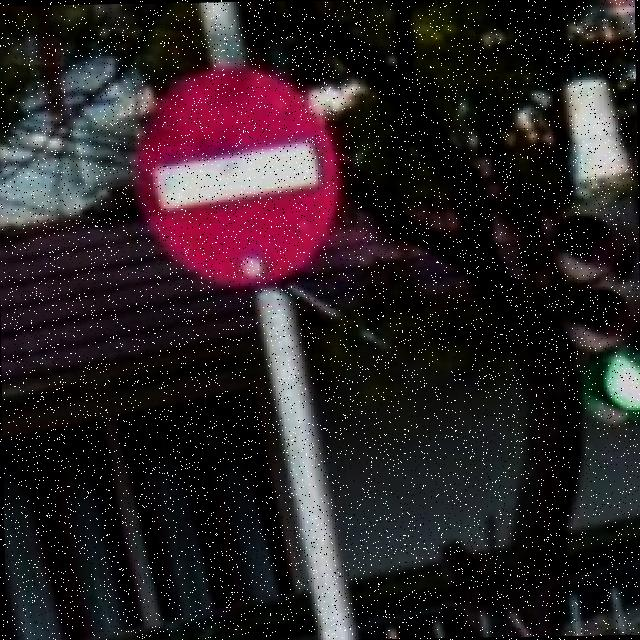Zakaz wjazdu: (136, 67, 338, 288)
